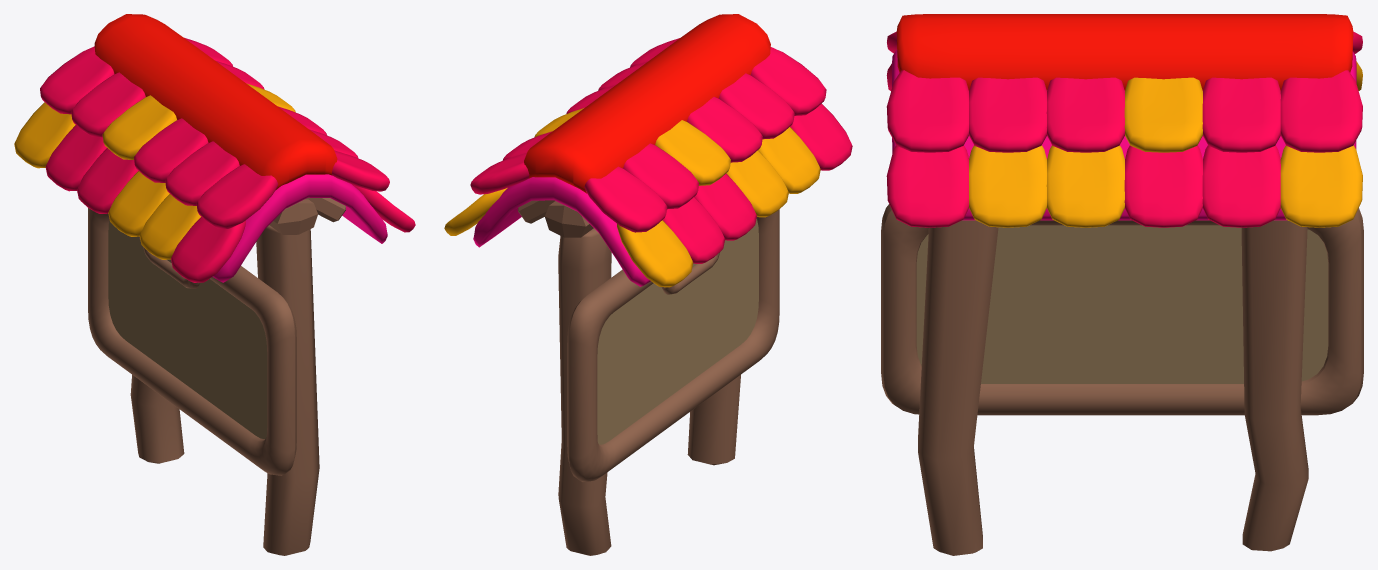
Rendered from Panneau_Shop.fbx.
3 views of the same model, side by side, from view 1: azimuth 30°, elevation 25°; view 2: azimuth 150°, elevation 25°; view 3: azimuth 270°, elevation 25° (orthographic). The views are drawn at different scales.
Parts seen in each view (by area): view 1: Toit_panneau, Panneau; view 2: Toit_panneau, Panneau; view 3: Panneau, Toit_panneau.
Boxes of the visible parts, bbox=[...] form: Toit_panneau: bbox=[14, 14, 415, 282]; Panneau: bbox=[88, 197, 345, 555]; Toit_panneau: bbox=[444, 14, 852, 287]; Panneau: bbox=[518, 200, 779, 555]; Panneau: bbox=[881, 204, 1363, 555]; Toit_panneau: bbox=[886, 14, 1362, 227].
Size of the model in its own units: 156 by 276 by 230.
